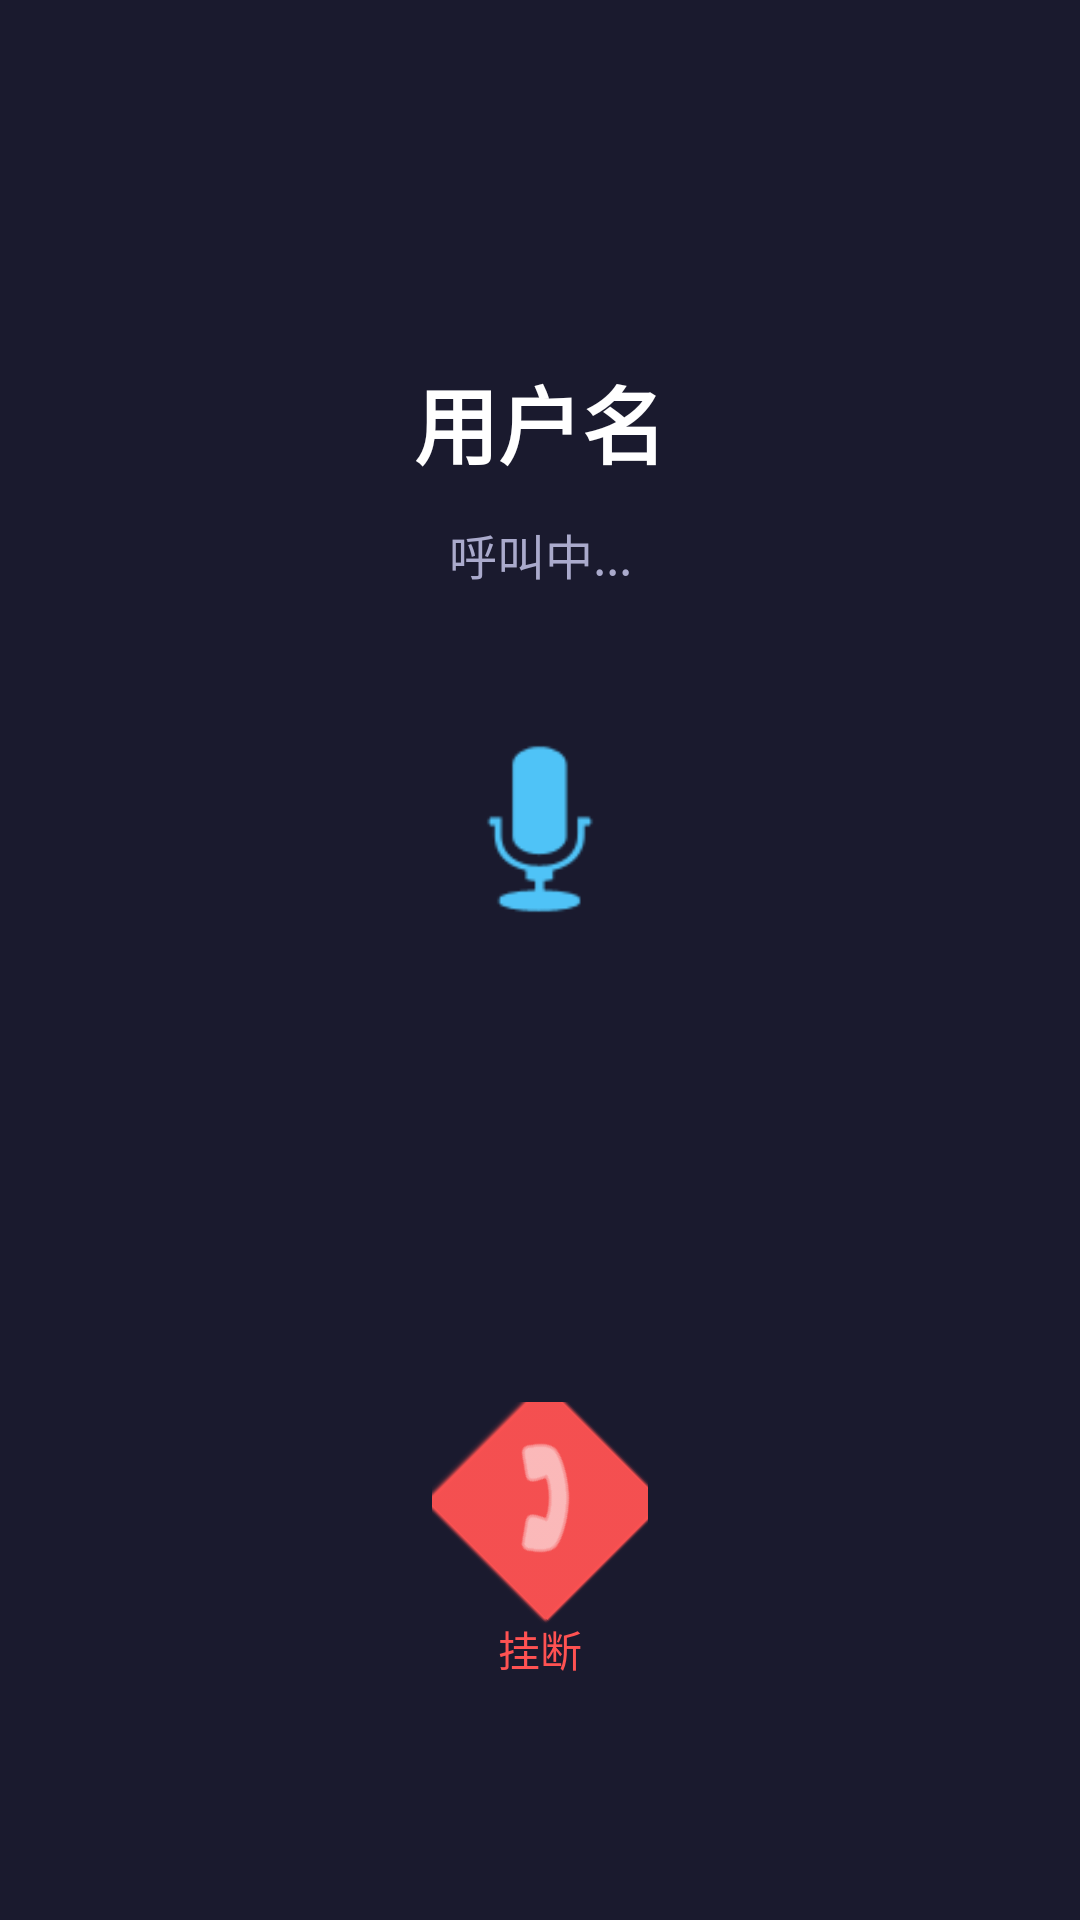

Icon click points for this 1080 × 1920 phone screenshot, format [x,y]:
speak now: [540,829]
